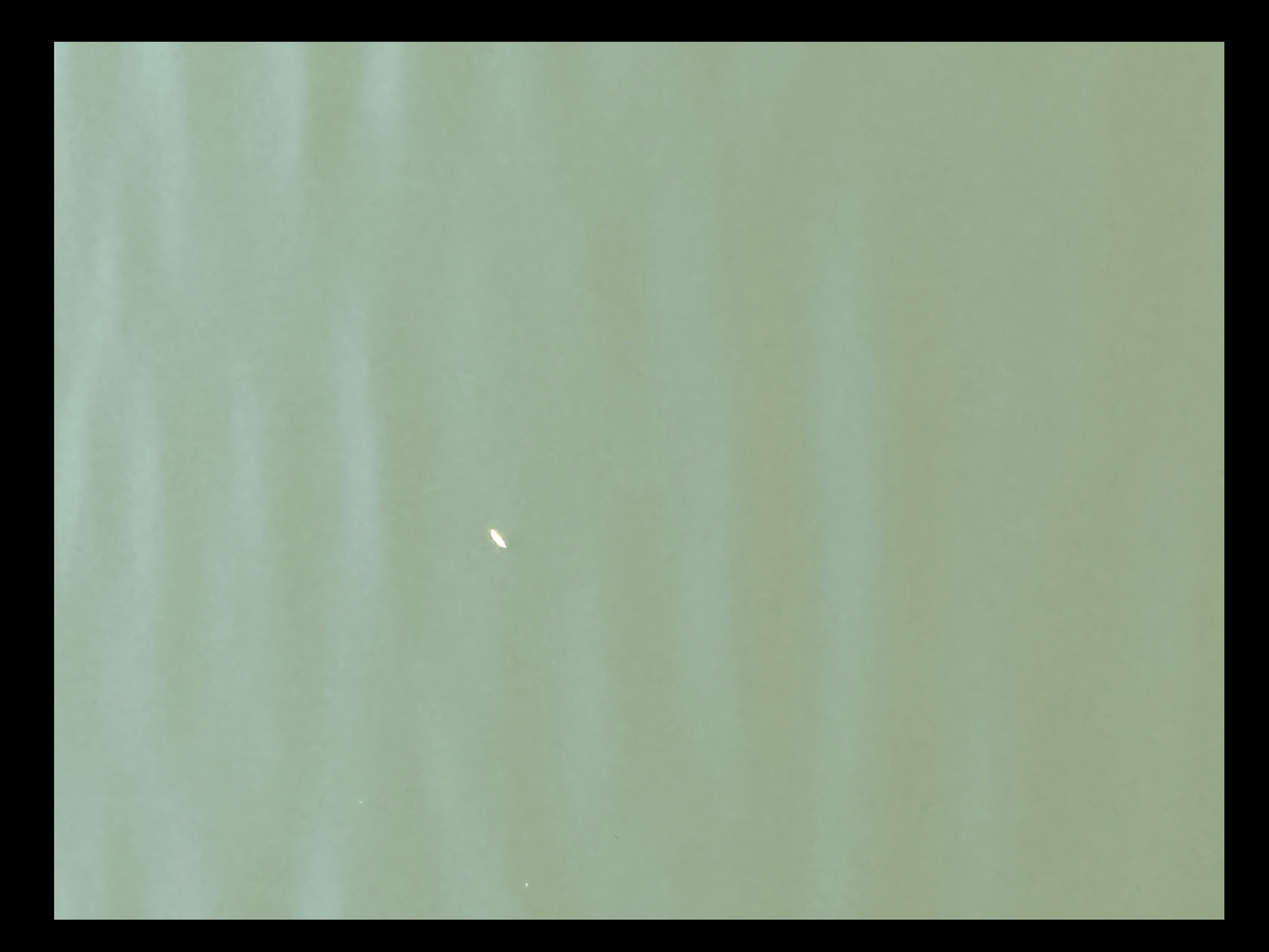Plastic wastes: (504, 518, 529, 538)
